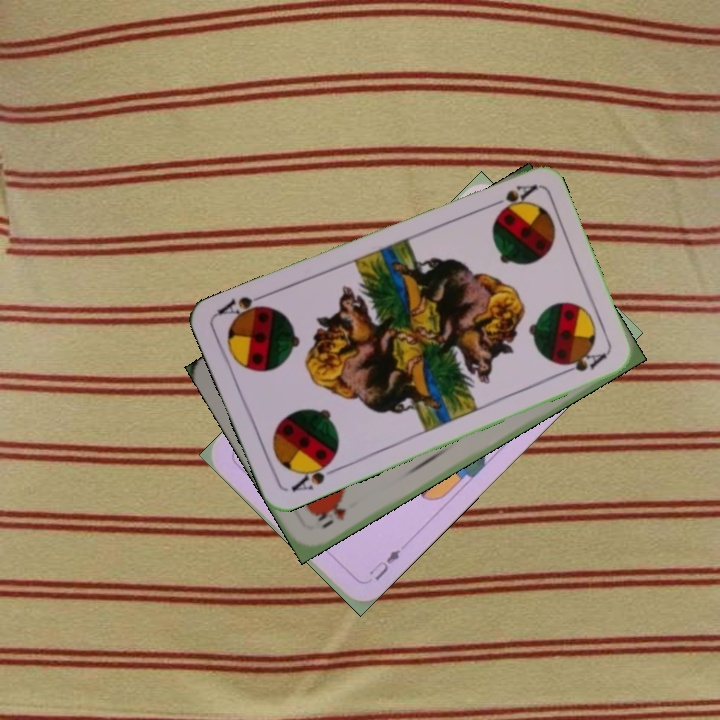EU: (365, 545, 404, 583)
HO: (313, 501, 348, 532)
SA: (287, 454, 342, 494), (482, 180, 539, 212)
